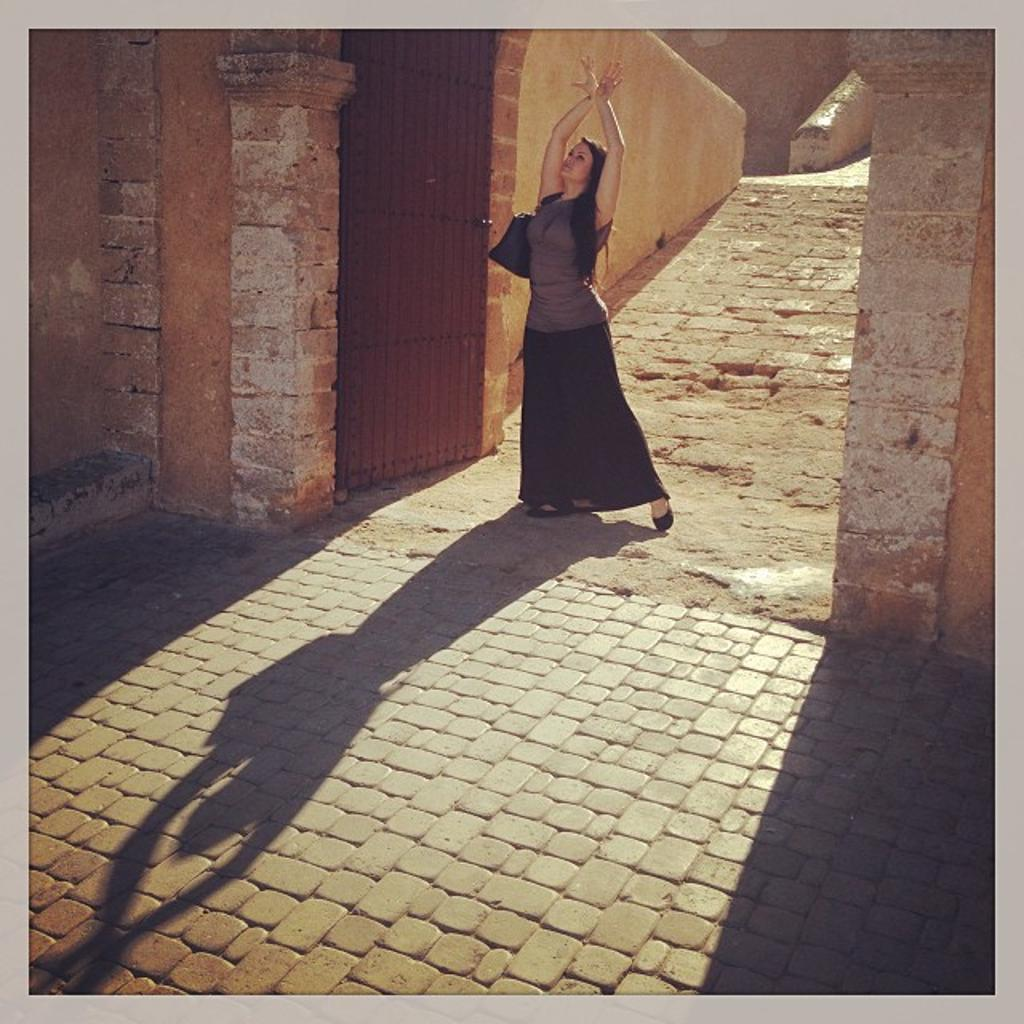face: (560, 141, 589, 177)
